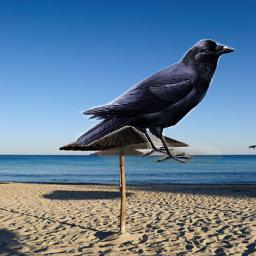Crow: (75, 39, 235, 165)
